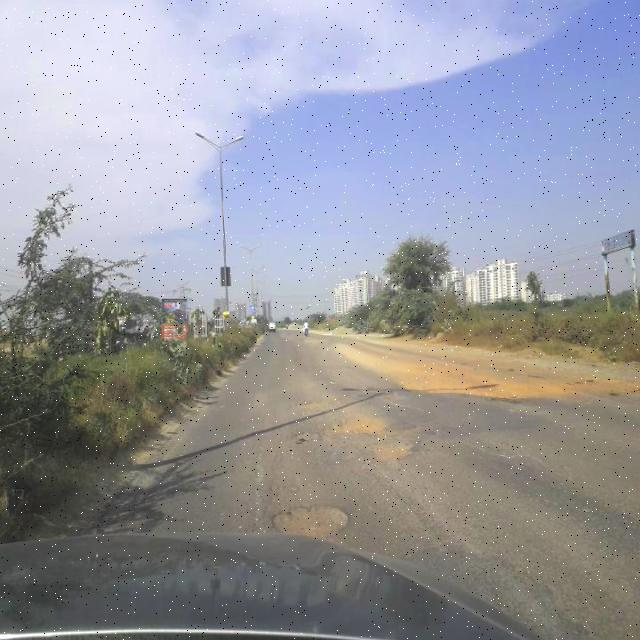D00: (445, 427, 583, 487)
D40: (378, 349, 589, 414), (469, 551, 595, 631), (275, 393, 390, 435), (264, 499, 360, 535), (353, 438, 425, 469)
